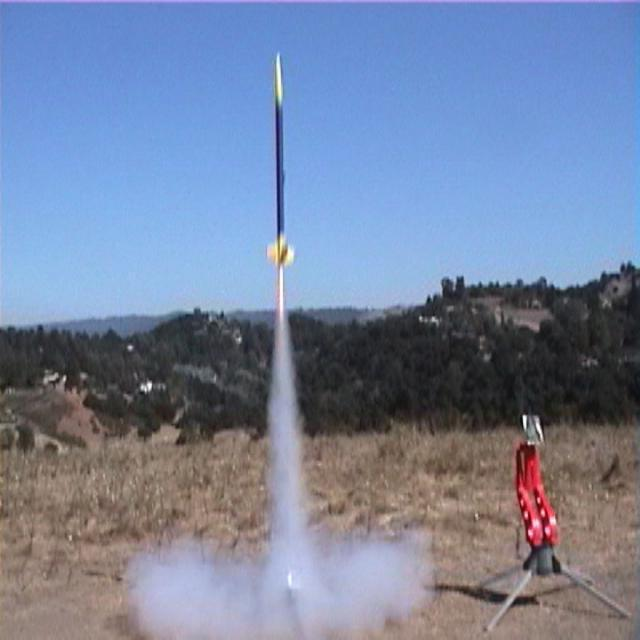missile: (267, 51, 294, 320)
